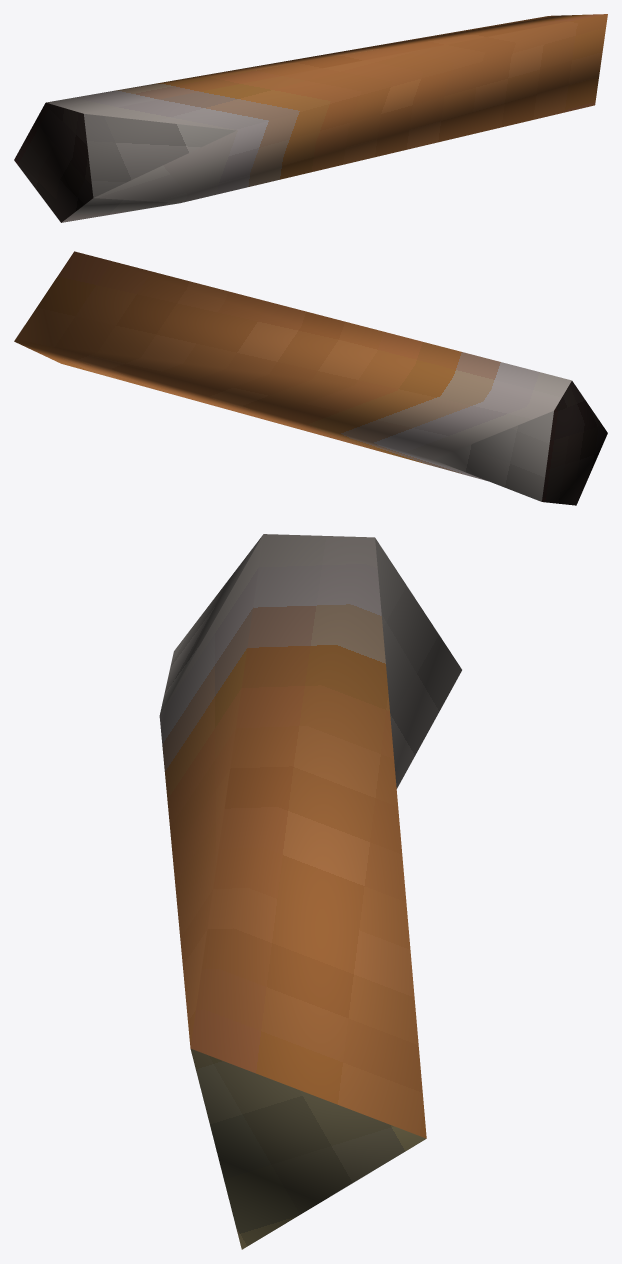
Rendered from cig_3.glb.
3 renders of one model, top to bottom at view 1: azimuth 30°, elevation 25°; view 2: azimuth 150°, elevation 25°; view 3: azimuth 270°, elevation 25°, orthographic. The views are drawn at different scales.
Visible parts, largest first — view 1: cig_3; view 2: cig_3; view 3: cig_3.
Part boxes in pixels (left/top/right/bottom): cig_3: left=14, top=14, right=607, bottom=222; cig_3: left=14, top=251, right=607, bottom=505; cig_3: left=159, top=534, right=461, bottom=1249.
Size of the model in its own units: 0.0656 by 0.0134 by 0.0164.
1 material, 1 textured.
